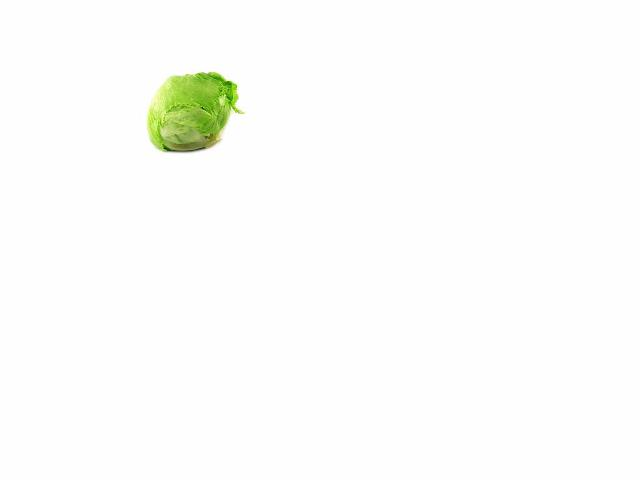lettuce: (143, 68, 234, 155)
